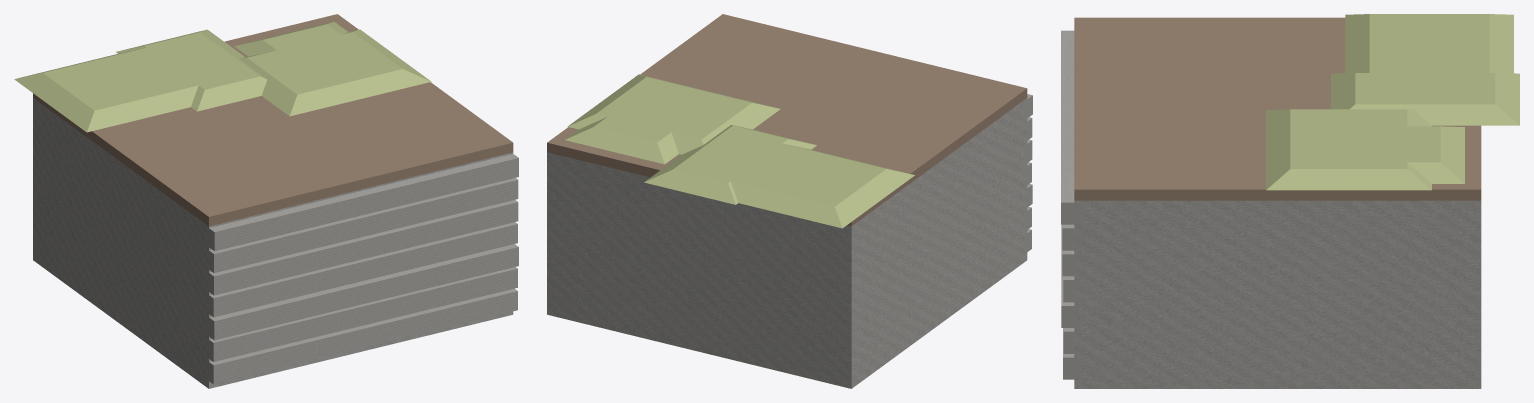
Rendered from andean-terraces-and-stone-village-gorge-edge-module-21c58915__38230.glb.
3 renders of one model, left to right at view 1: azimuth 30°, elevation 25°; view 2: azimuth 150°, elevation 25°; view 3: azimuth 270°, elevation 25°, orthographic. The views are drawn at different scales.
Visible parts, largest first — view 1: gorge-edge-module-stone, gorge-edge-module-earth, gorge-edge-module-grass; view 2: gorge-edge-module-stone, gorge-edge-module-earth, gorge-edge-module-grass; view 3: gorge-edge-module-stone, gorge-edge-module-earth, gorge-edge-module-grass.
Boxes of the visible parts, left/top/right/bottom form: gorge-edge-module-stone: left=33, top=98, right=518, bottom=388; gorge-edge-module-earth: left=33, top=14, right=513, bottom=226; gorge-edge-module-grass: left=14, top=22, right=431, bottom=132; gorge-edge-module-stone: left=547, top=94, right=1032, bottom=388; gorge-edge-module-earth: left=547, top=14, right=1027, bottom=226; gorge-edge-module-grass: left=565, top=74, right=914, bottom=228; gorge-edge-module-stone: left=1061, top=30, right=1481, bottom=388; gorge-edge-module-earth: left=1074, top=17, right=1481, bottom=200; gorge-edge-module-grass: left=1266, top=14, right=1519, bottom=190.
Bounding box in the file's own units: 4.08 × 2.28 × 4.51.
Materials: 3 (1 with a texture image).
